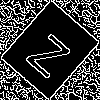Z: (25, 25, 78, 80)
